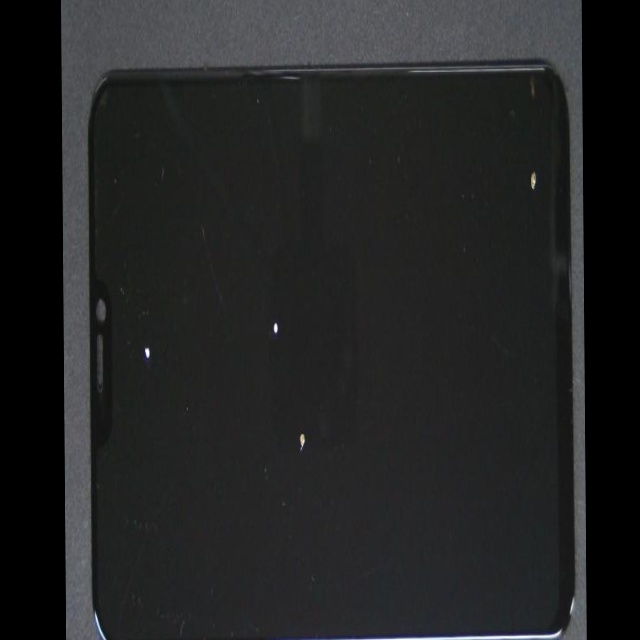stain: (191, 119, 418, 640), (302, 3, 584, 267), (183, 163, 394, 490), (111, 99, 184, 542)
